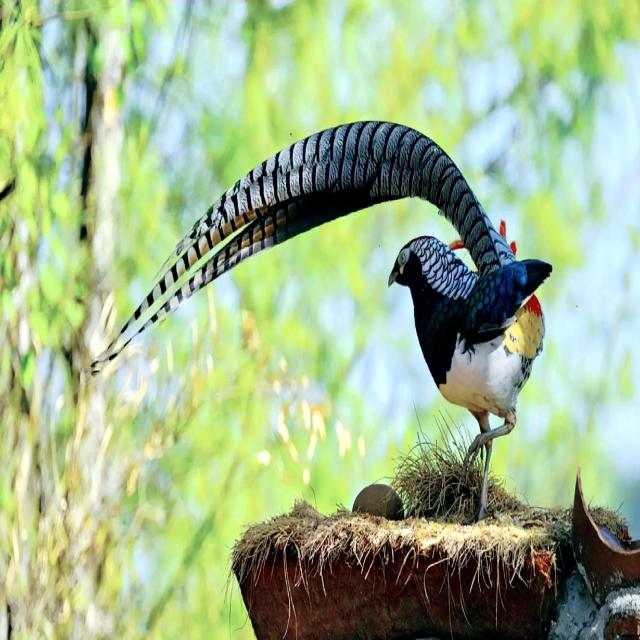Chrysolophus amherstiae: (91, 121, 510, 374)
